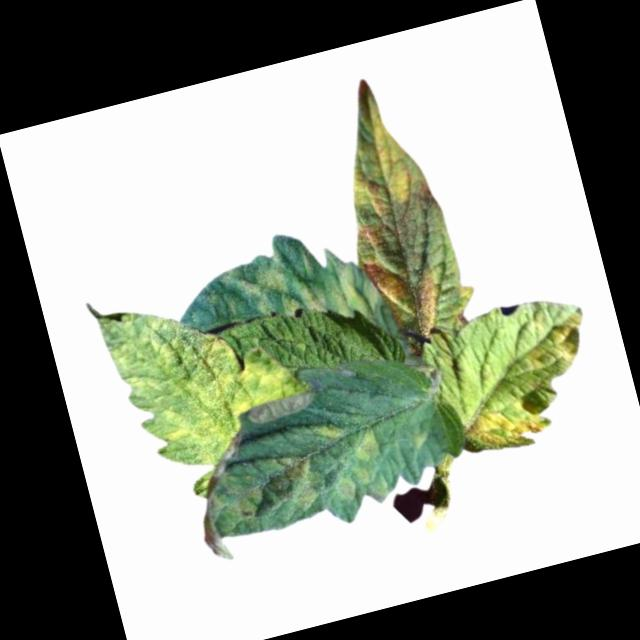Leaf_Mold: (316, 65, 481, 348), (94, 274, 297, 475), (186, 410, 401, 549), (441, 303, 626, 460), (234, 234, 377, 343)
